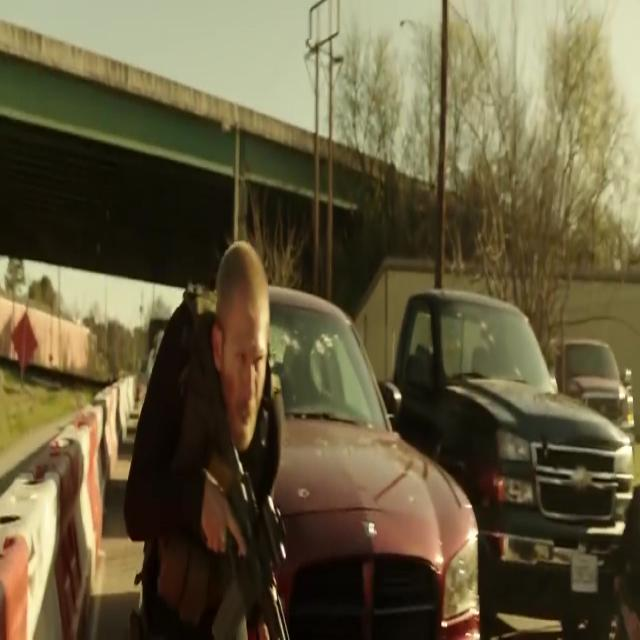Weapon: (186, 388, 324, 640)
